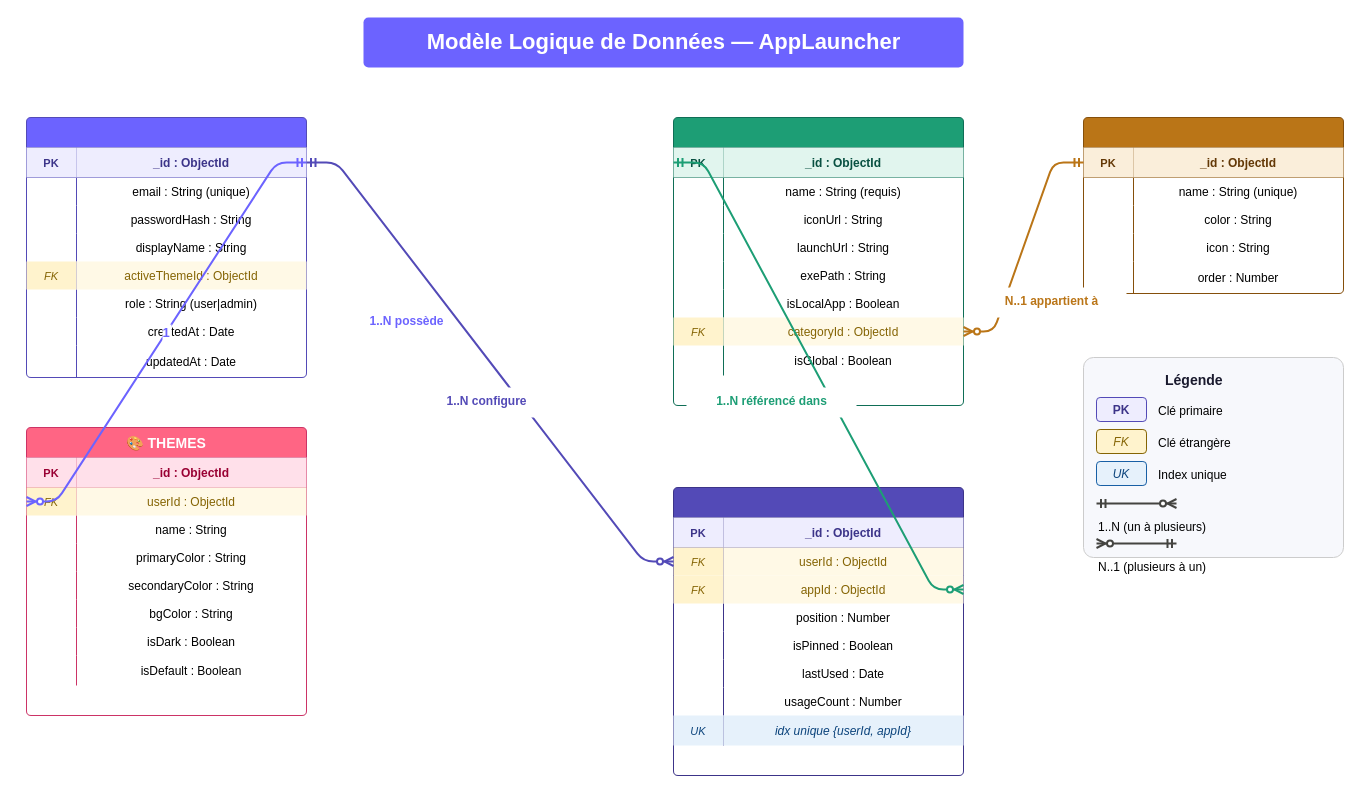
Image size: 1361x793. Some labels were removed from this diagram. The box of each missing label's shape, as (x1, y1, x2, y2) in pixels:
👤 USERS: (26, 116, 306, 378)
📱 APPLICATIONS: (672, 116, 964, 406)
🔗 USER_APPS (jonction): (672, 486, 964, 776)
🗂 CATEGORIES: (1082, 116, 1344, 294)
